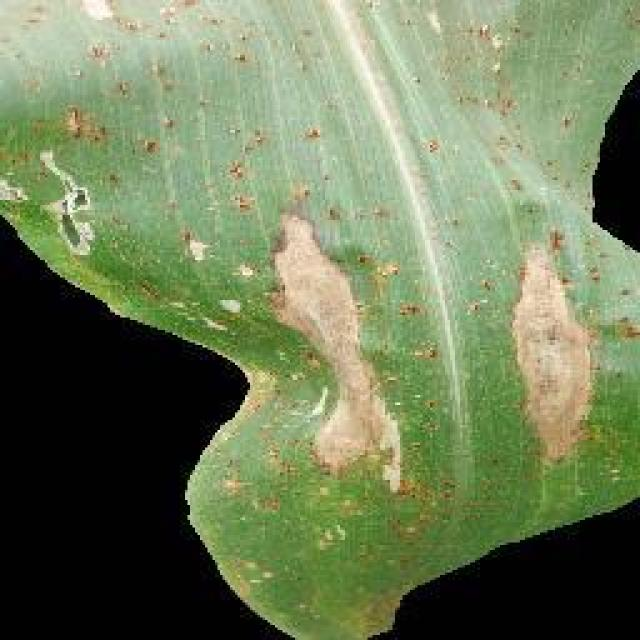Corn Common Rust: (81, 0, 626, 508)
